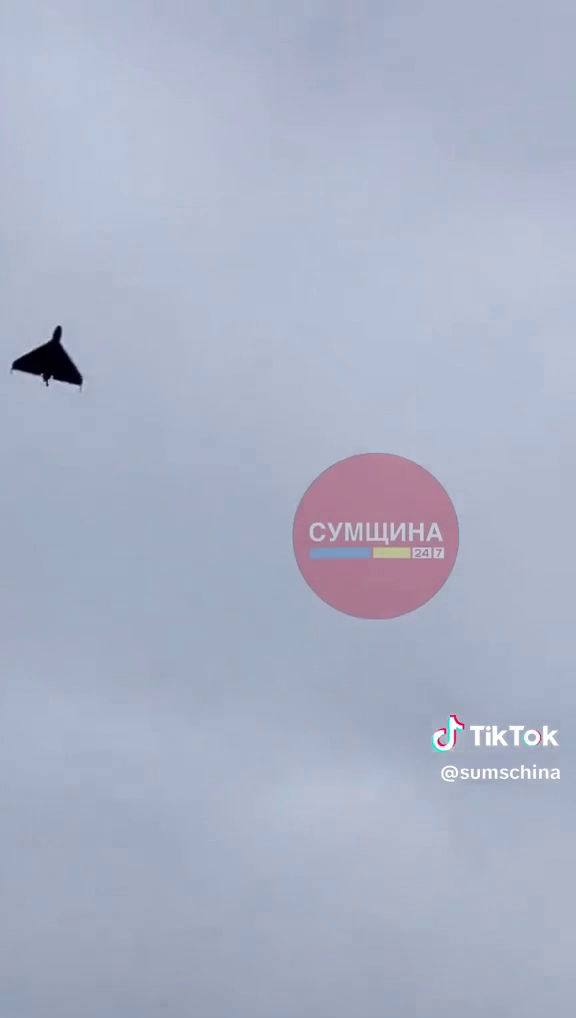shahed: (4, 313, 98, 402)
